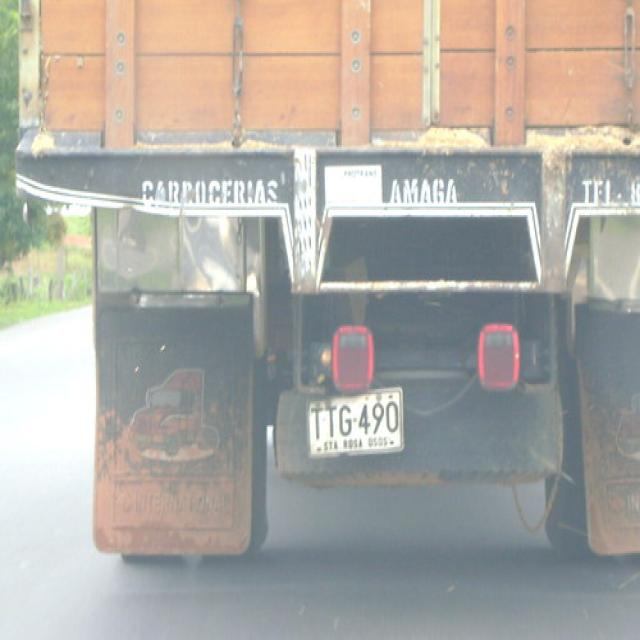placas: (310, 393, 401, 444)
